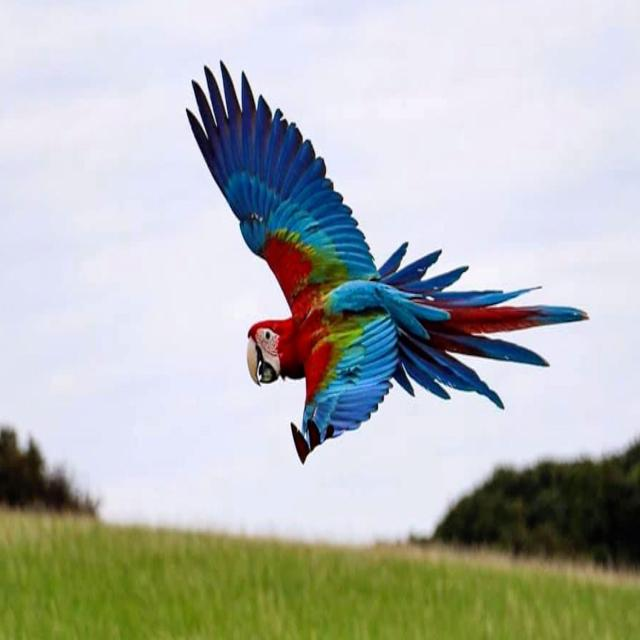Parrot: (182, 58, 570, 466)
